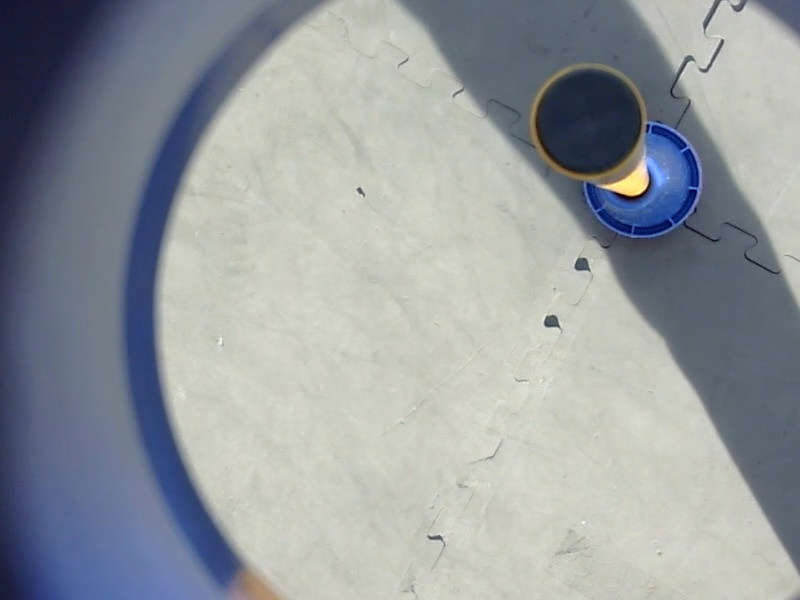tip: (525, 58, 651, 184)
